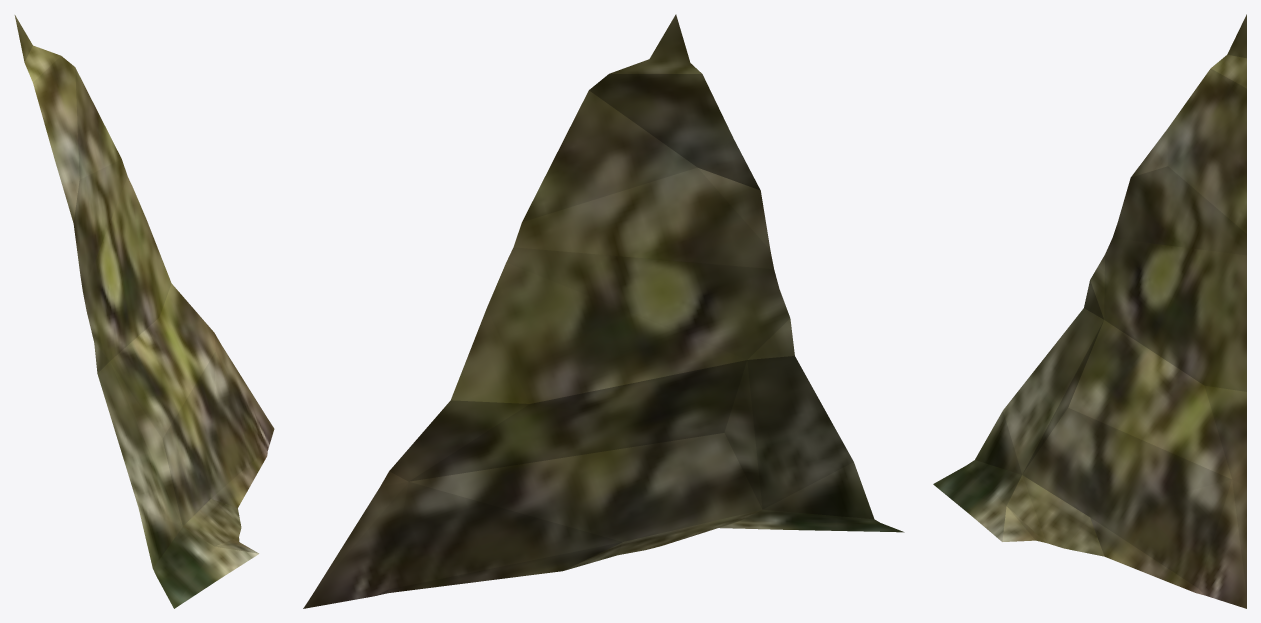
3 renders of one model, left to right at view 1: azimuth 30°, elevation 25°; view 2: azimuth 150°, elevation 25°; view 3: azimuth 270°, elevation 25°, orthographic. The views are drawn at different scales.
Size of the model in its own units: 0.2558 by 0.4496 by 0.2719.
Materials: 1 (1 with a texture image).
